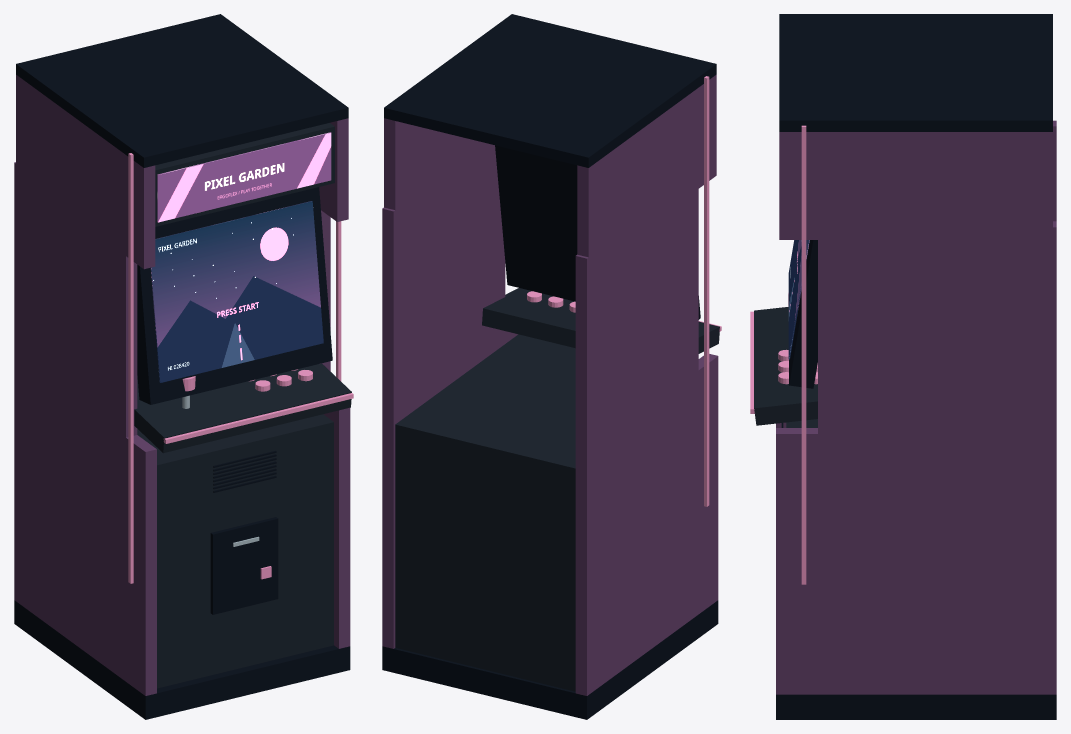
The model's file is arcade-pixel-garden.glb.
3 views of the same model, side by side, from view 1: azimuth 30°, elevation 25°; view 2: azimuth 150°, elevation 25°; view 3: azimuth 270°, elevation 25° (orthographic). The views are drawn at different scales.
Parts seen in each view (by area): view 1: Lower side panel (×2), Lower chassis, Top cap, Tilted game screen, Monitor side panel (×2), Marquee side panel (×2), Monitor housing, Grounded cabinet base, Control deck, Lit marquee, Coin door, Side stripe (×2) (+2 smaller); view 2: Lower chassis, Monitor side panel (×2), Lower side panel (×2), Top cap, Marquee side panel (×2), Monitor housing, Grounded cabinet base, Control deck, Side stripe; view 3: Lower side panel, Monitor side panel, Top cap, Marquee side panel, Grounded cabinet base, Control deck, Side stripe, Monitor housing, Tilted game screen.
Boxes of the visible parts, left/top/right/bottom form: Lower side panel (×2): left=14, top=356, right=350, bottom=695; Lower chassis: left=137, top=376, right=333, bottom=688; Top cap: left=16, top=14, right=348, bottom=167; Tilted game screen: left=150, top=201, right=323, bottom=382; Monitor side panel (×2): left=14, top=162, right=330, bottom=437; Marquee side panel (×2): left=16, top=75, right=348, bottom=269; Monitor housing: left=137, top=187, right=332, bottom=404; Grounded cabinet base: left=14, top=600, right=350, bottom=719; Control deck: left=134, top=363, right=351, bottom=453; Lit marquee: left=157, top=132, right=331, bottom=222; Coin door: left=210, top=517, right=278, bottom=614; Side stripe (×2): left=128, top=153, right=341, bottom=583; Lower chassis: left=395, top=334, right=575, bottom=691; Monitor side panel (×2): left=382, top=149, right=698, bottom=451; Lower side panel (×2): left=382, top=329, right=718, bottom=695; Top cap: left=384, top=14, right=716, bottom=167; Marquee side panel (×2): left=384, top=74, right=716, bottom=266; Monitor housing: left=495, top=145, right=700, bottom=319; Grounded cabinet base: left=382, top=600, right=718, bottom=719; Control deck: left=482, top=288, right=719, bottom=353; Side stripe: left=704, top=76, right=709, bottom=506; Lower side panel: left=776, top=428, right=1056, bottom=694; Monitor side panel: left=818, top=221, right=1056, bottom=433; Top cap: left=779, top=14, right=1052, bottom=131; Marquee side panel: left=779, top=132, right=1052, bottom=239; Grounded cabinet base: left=776, top=694, right=1056, bottom=719; Control deck: left=754, top=307, right=817, bottom=425; Side stripe: left=801, top=125, right=806, bottom=584; Monitor housing: left=789, top=240, right=817, bottom=388; Tilted game screen: left=788, top=240, right=809, bottom=359.
Size of the model in its own units: 0.74 by 1.88 by 0.8725.
Materials: 7 (2 with a texture image).
